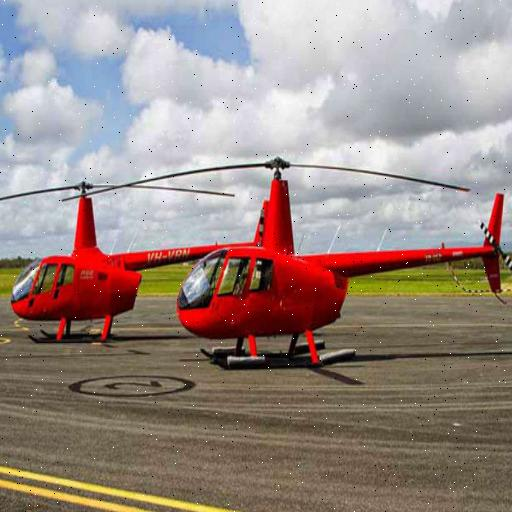helicopter: (94, 155, 512, 372), (1, 179, 250, 334)
